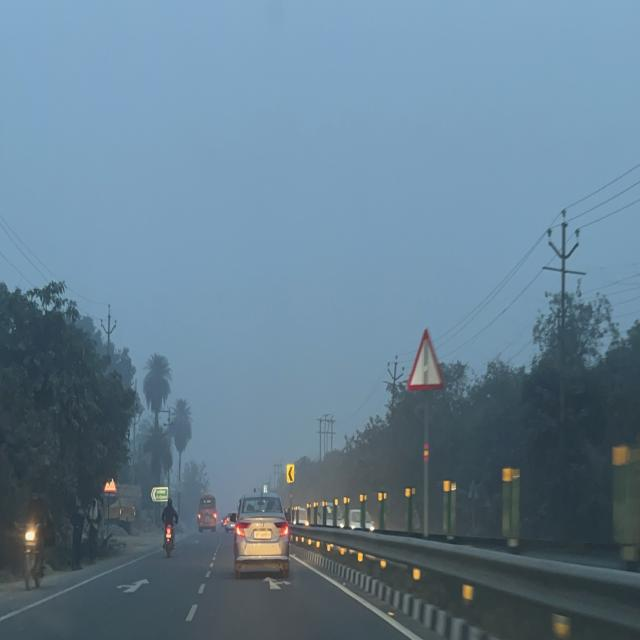GAP_IN_MEDIAN: (406, 328, 444, 393)
GENERAL: (151, 487, 168, 502)
TURN_LEFT: (287, 465, 294, 483)
